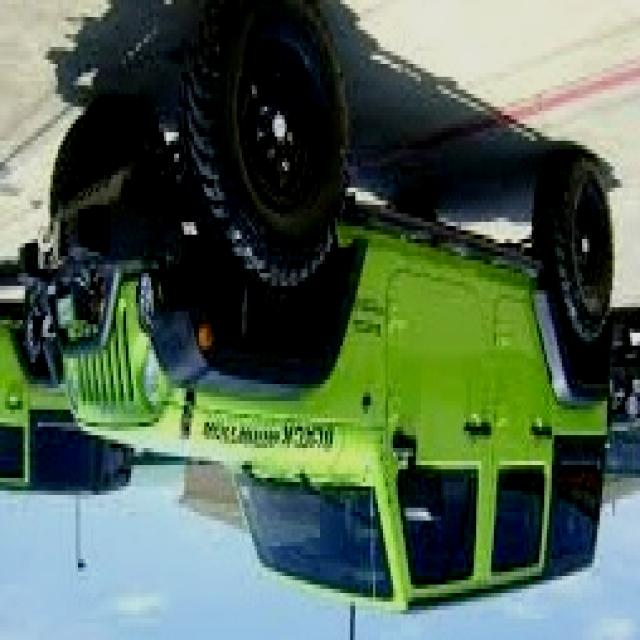green: (17, 0, 615, 613)
